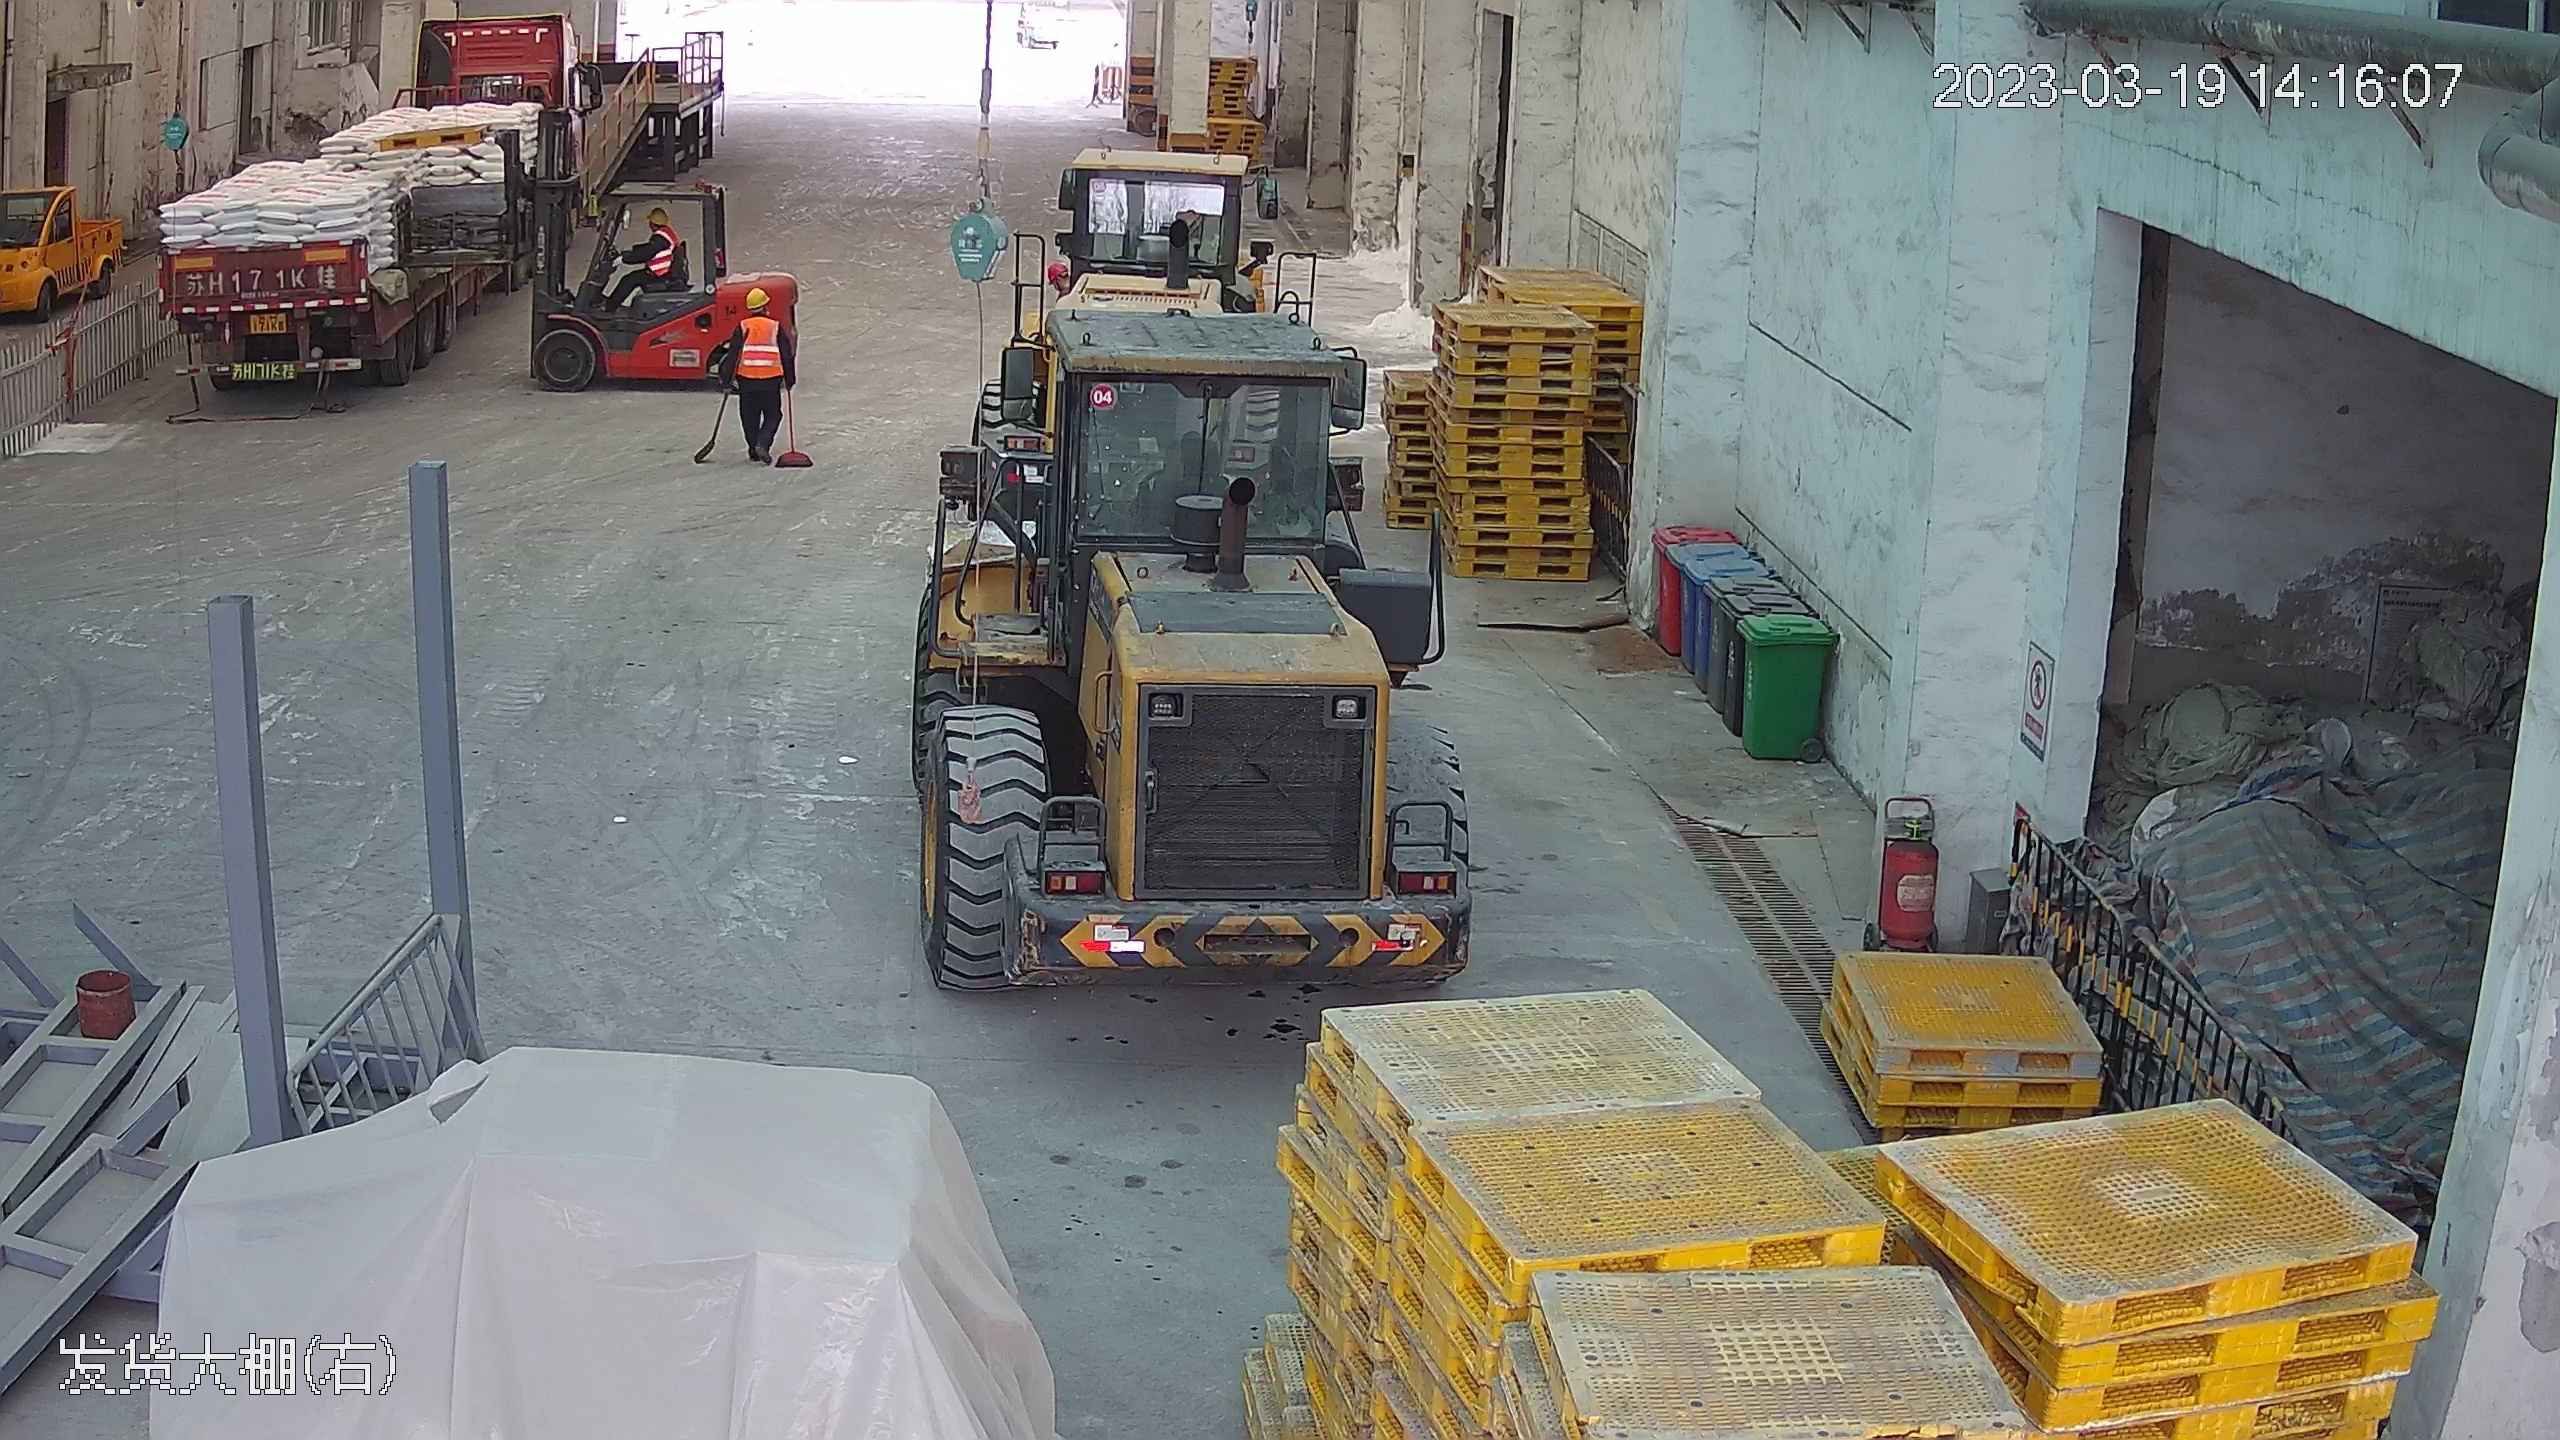head: (733, 281, 785, 346), (639, 204, 678, 252)
helmet: (748, 281, 775, 308), (642, 205, 670, 227)
people: (712, 280, 793, 474), (604, 203, 680, 314)
truck: (129, 9, 543, 395)
